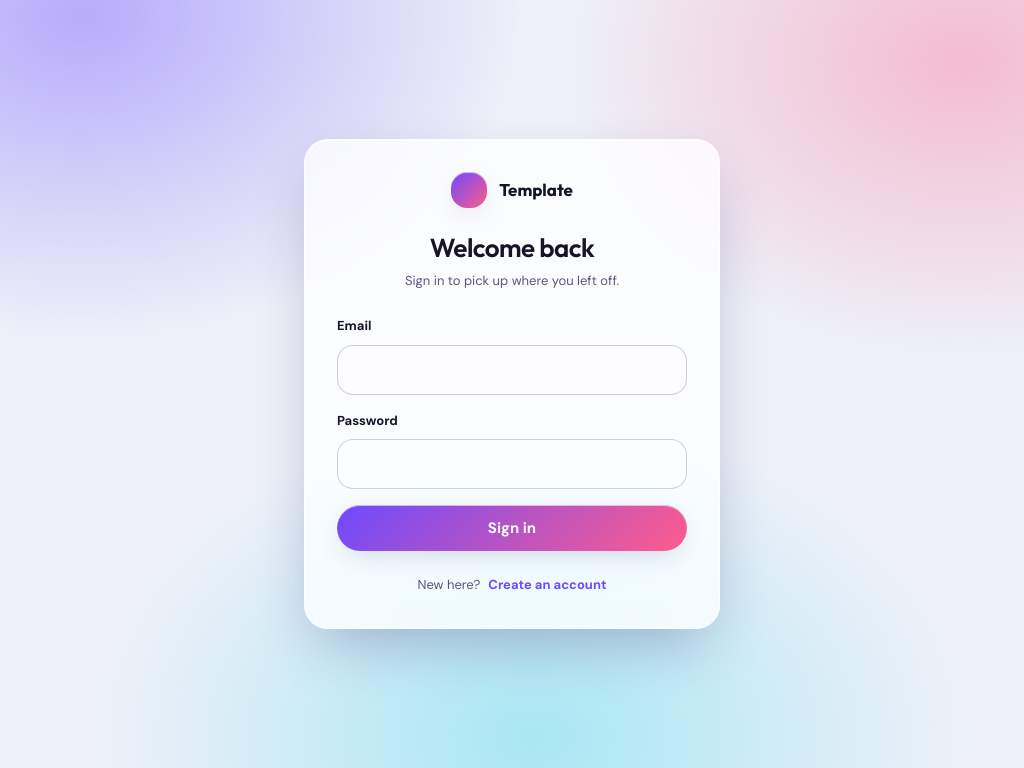
server errors › shows an unplaceable error at form level rather than swallowing it
Type "me@test.dev" into the field labelled "Email" at coordinates (512, 370), box [337,345,687,395]
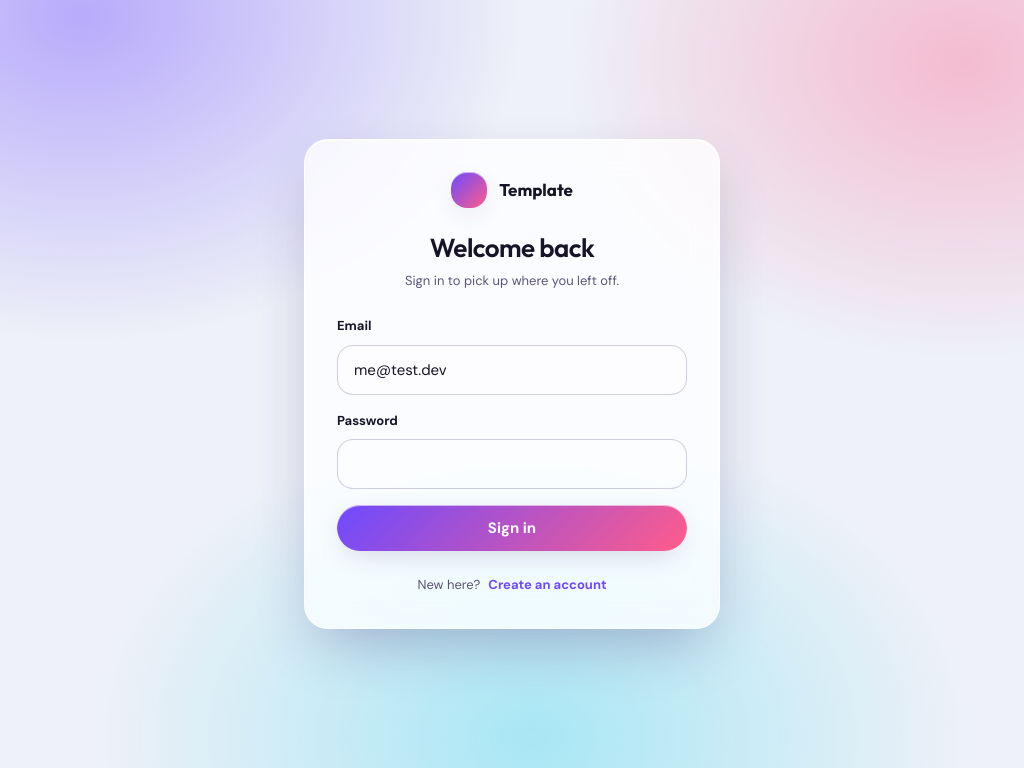
Type "correct-horse-battery" into the password field labelled "Password" at coordinates (512, 464), box [337,439,687,489]
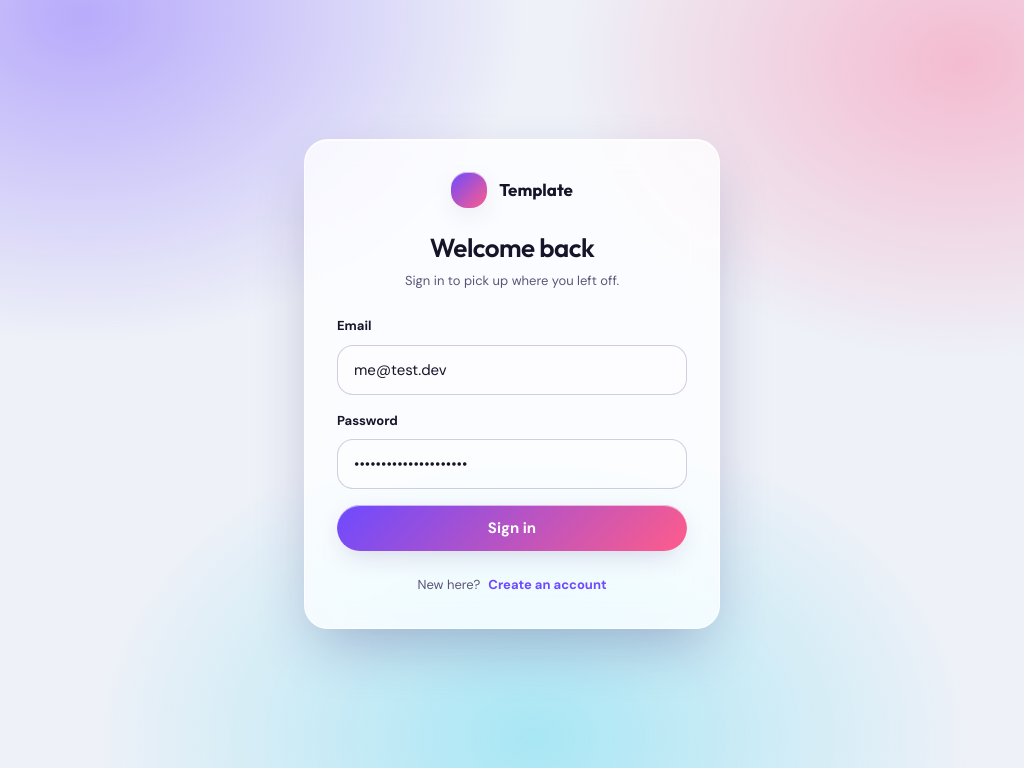
Submit the form from the button "Sign in", box [337,505,687,551]
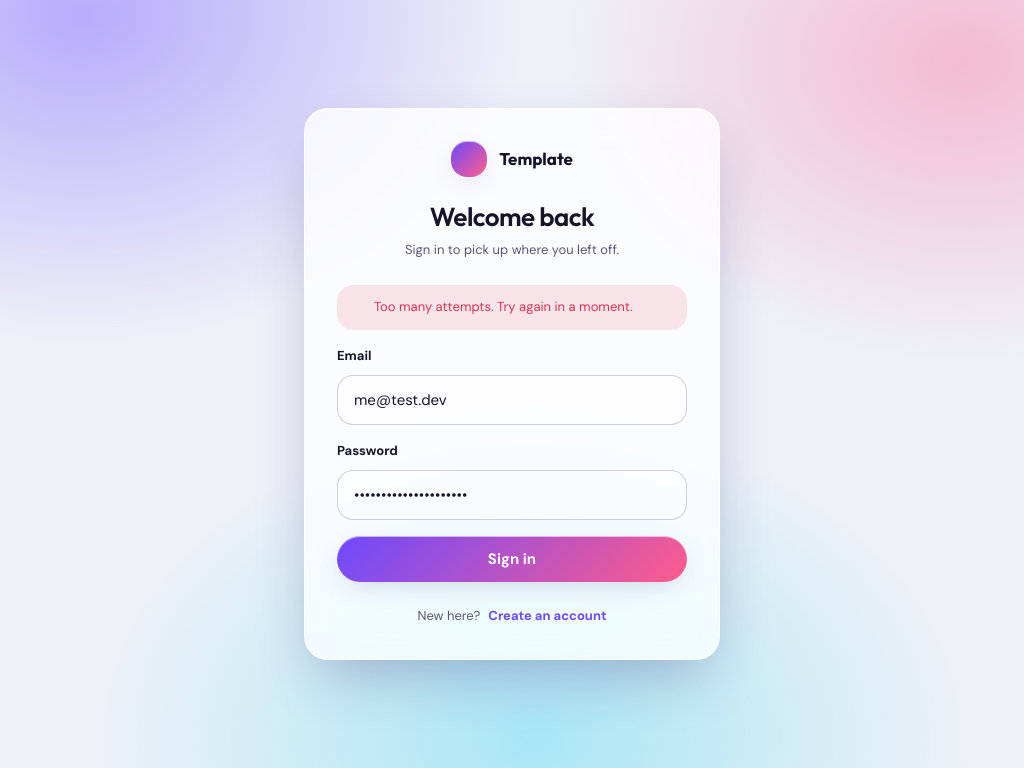
Expected: the text "Too many attempts. Try again in a moment." is shown, [374,297,632,318]
